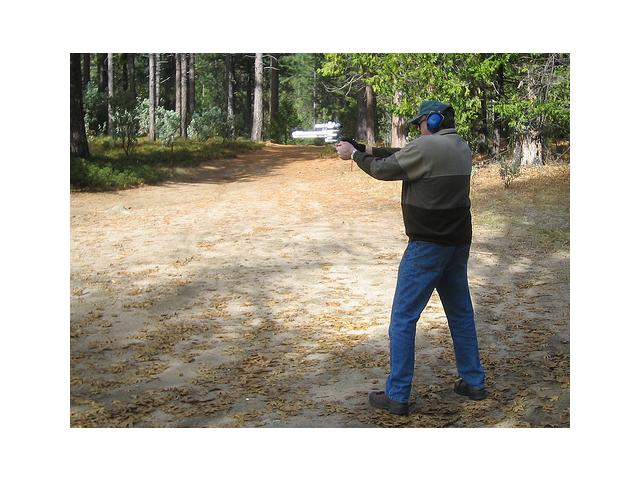pistol: (289, 127, 352, 164)
